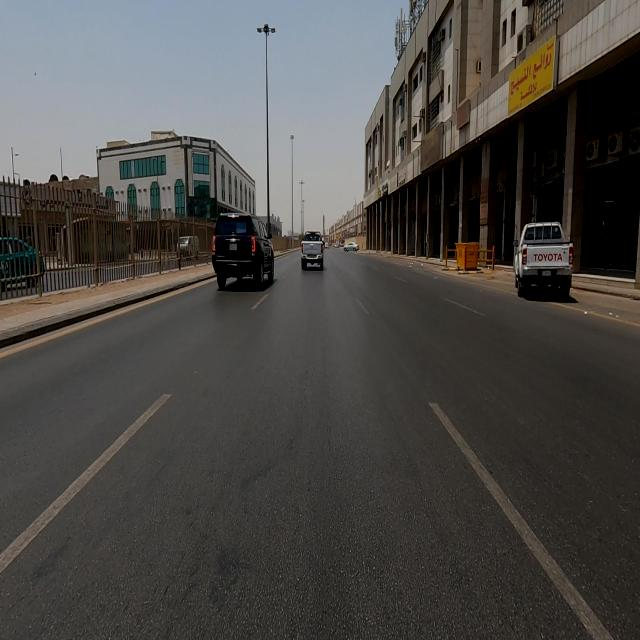debris: (365, 71, 485, 229)
